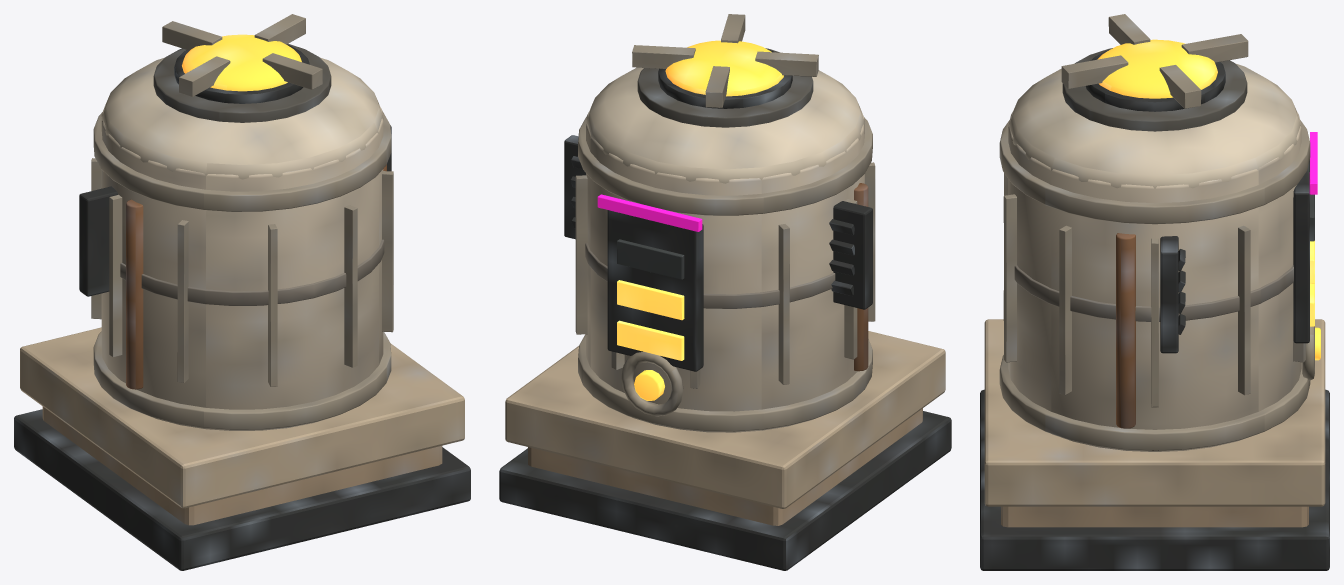
Rendered from silo.glb.
3 renders of one model, left to right at view 1: azimuth 30°, elevation 25°; view 2: azimuth 150°, elevation 25°; view 3: azimuth 270°, elevation 25°, orthographic. The views are drawn at different scales.
Visible parts, largest first — view 1: Sandwar3D; view 2: Sandwar3D; view 3: Sandwar3D.
Part boxes in pixels (<box>): Sandwar3D: <box>14,14,470,570</box>; Sandwar3D: <box>499,14,951,570</box>; Sandwar3D: <box>980,14,1329,570</box>.
Bounding box in the file's own units: 1.01 × 1.36 × 0.965.
14 materials, 13 textured.
